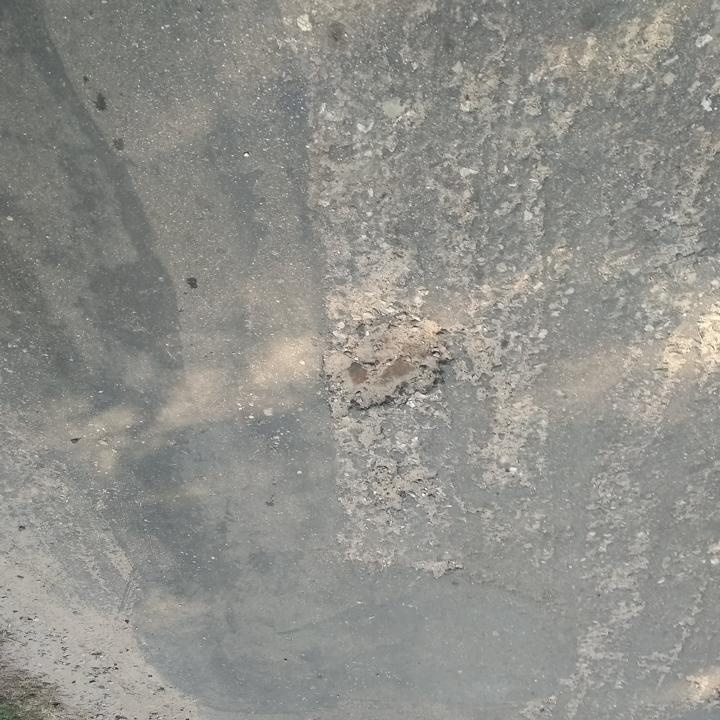pothole: (317, 305, 464, 423)
